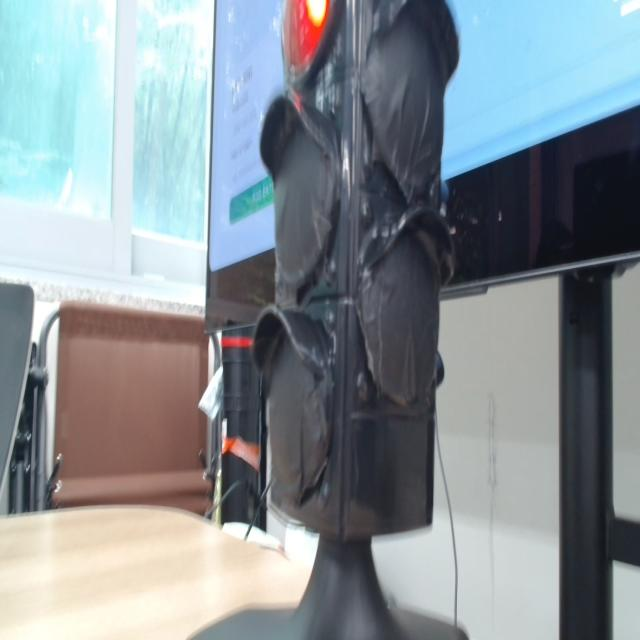red_light: (283, 0, 329, 76)
